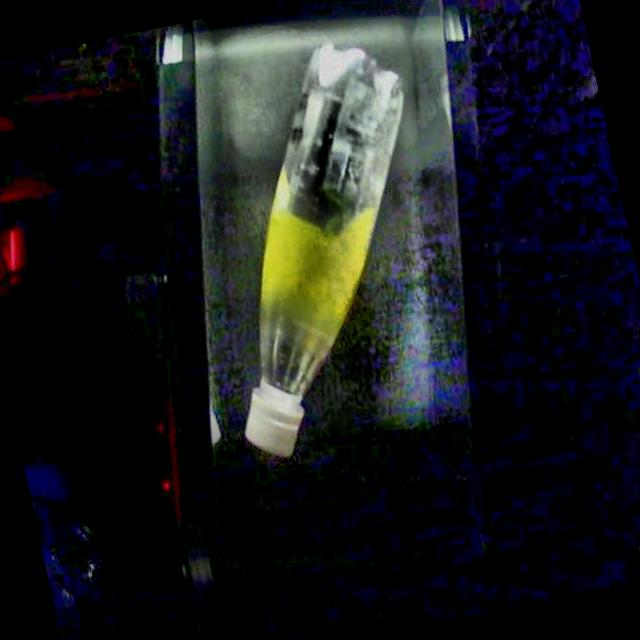plastic bottle: (244, 42, 404, 457)
